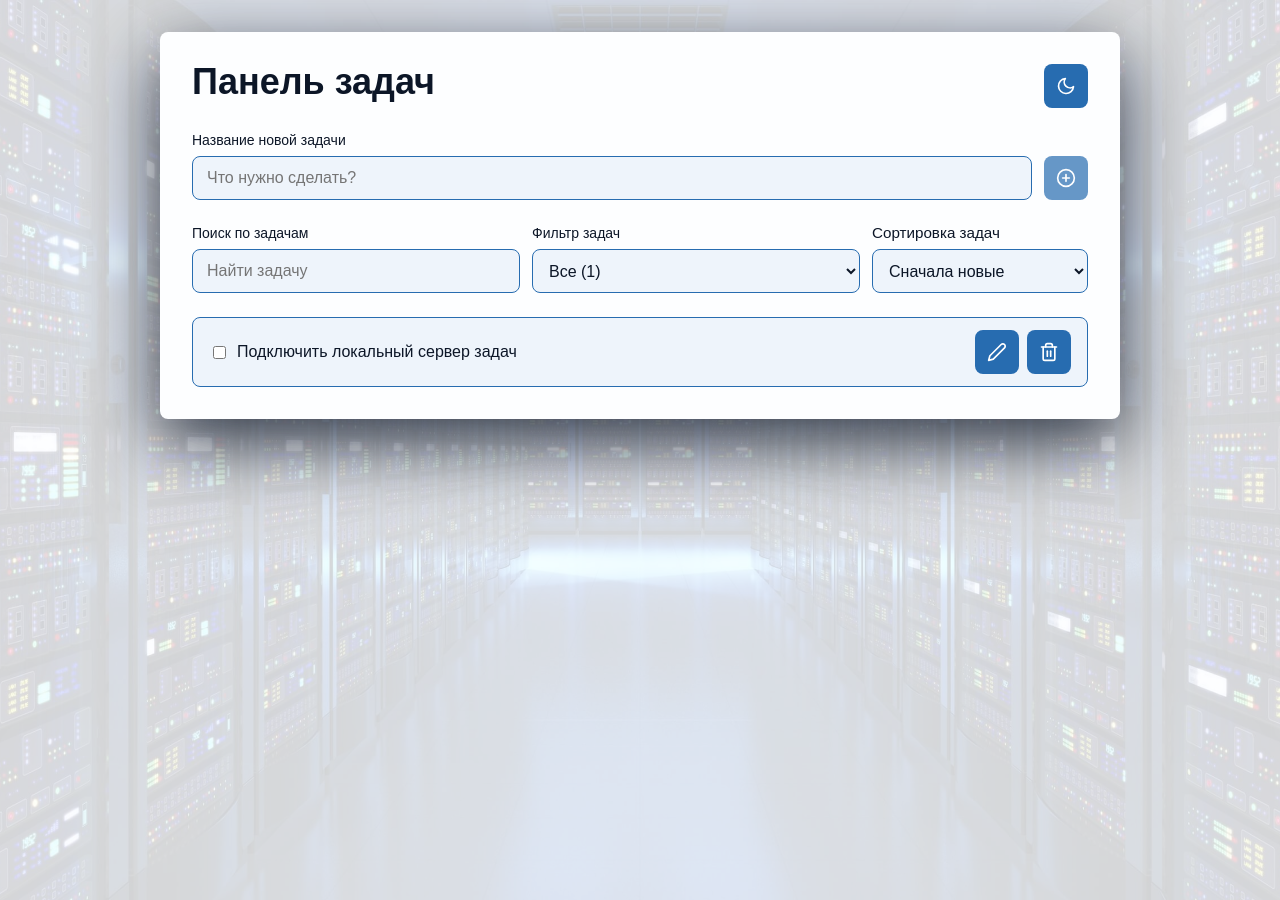
Test: App › отменяет редактирование по Escape и показывает старое название
Expected: the text "Подключить локальный сервер задач" is shown, [237,343,517,361]
Click the button named "Редактировать". click: [997, 352]
box: [975,330,1019,374]
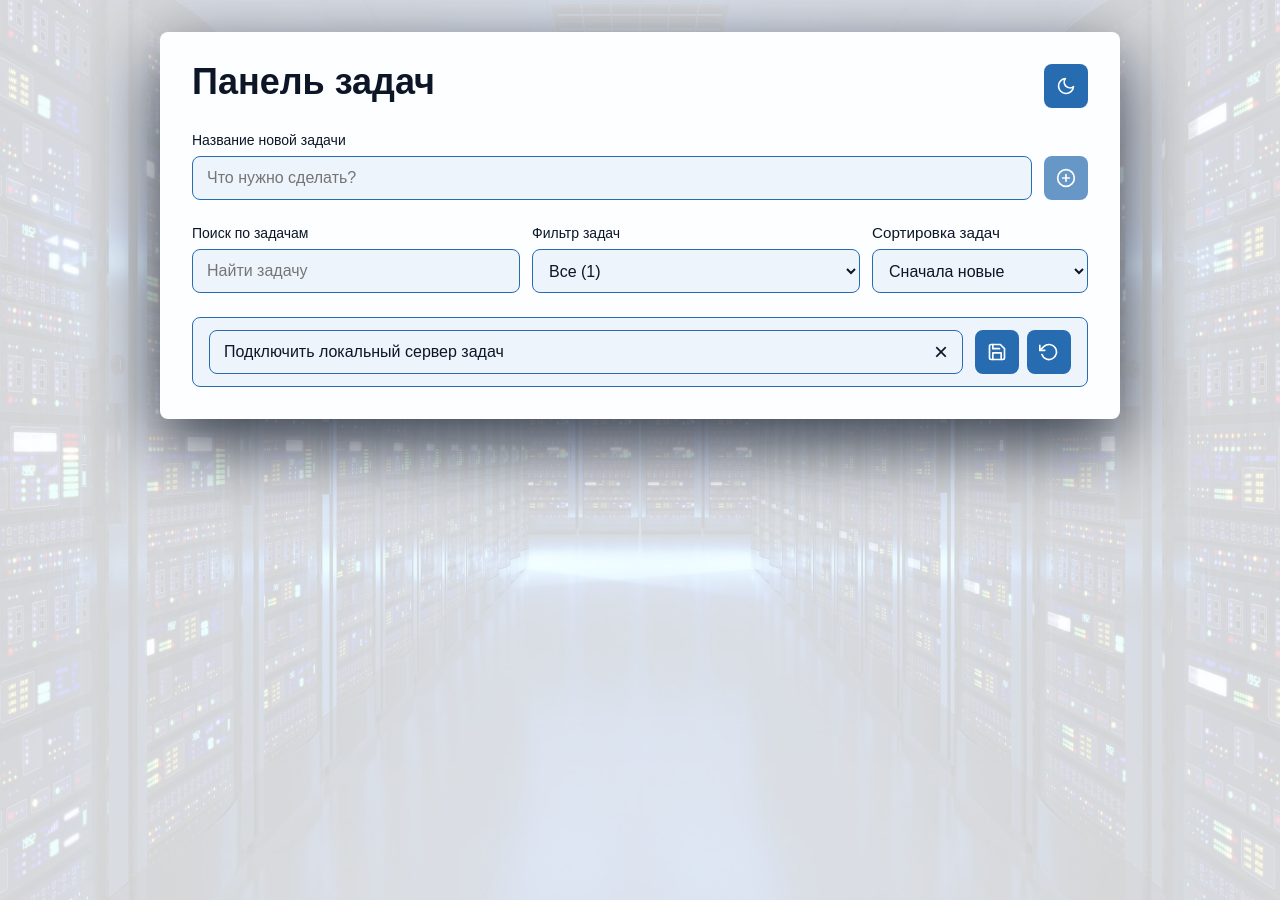
Replace the text in the field named "Название задачи" with "Черновик". click: [586, 352]
box: [209,330,963,374]
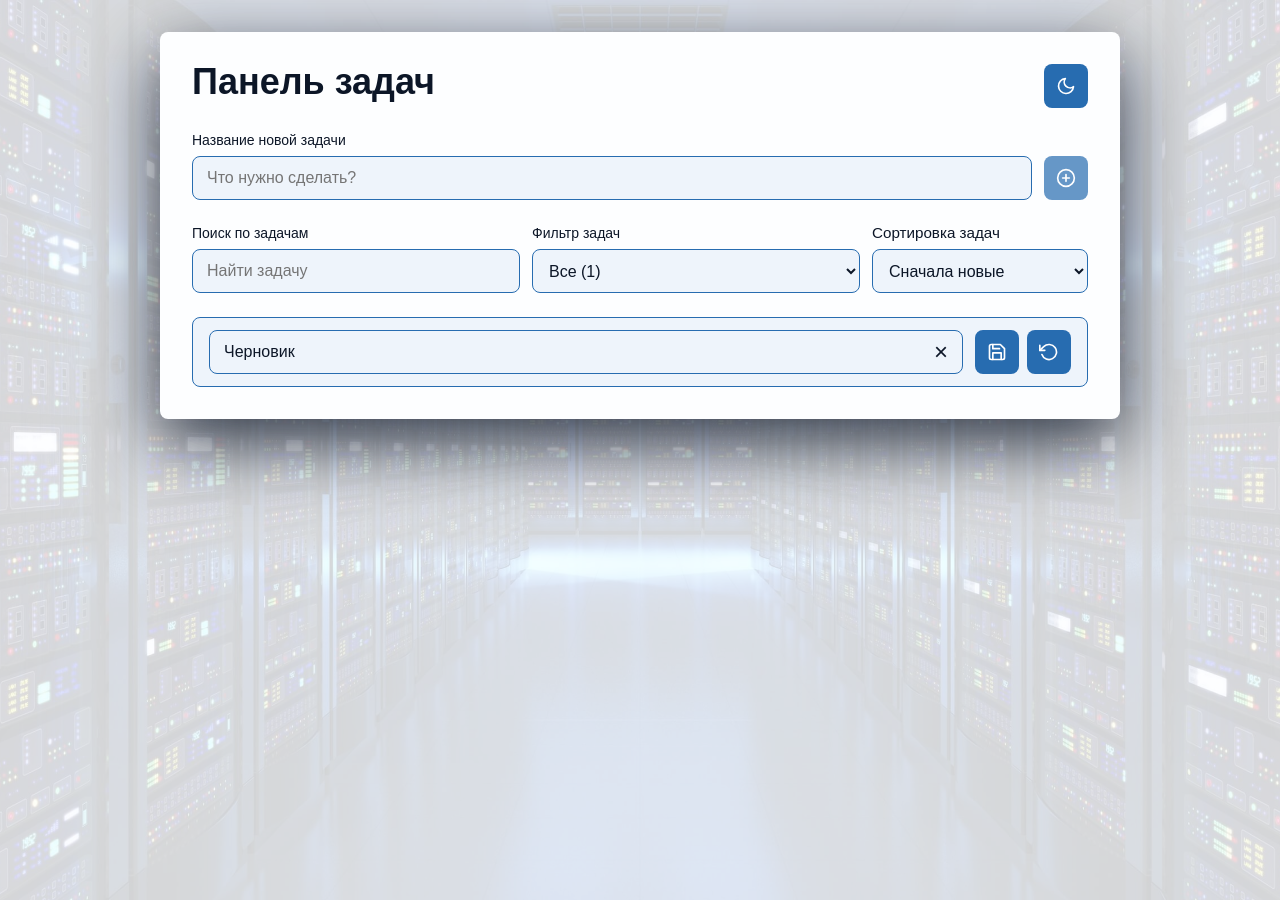
Press Escape
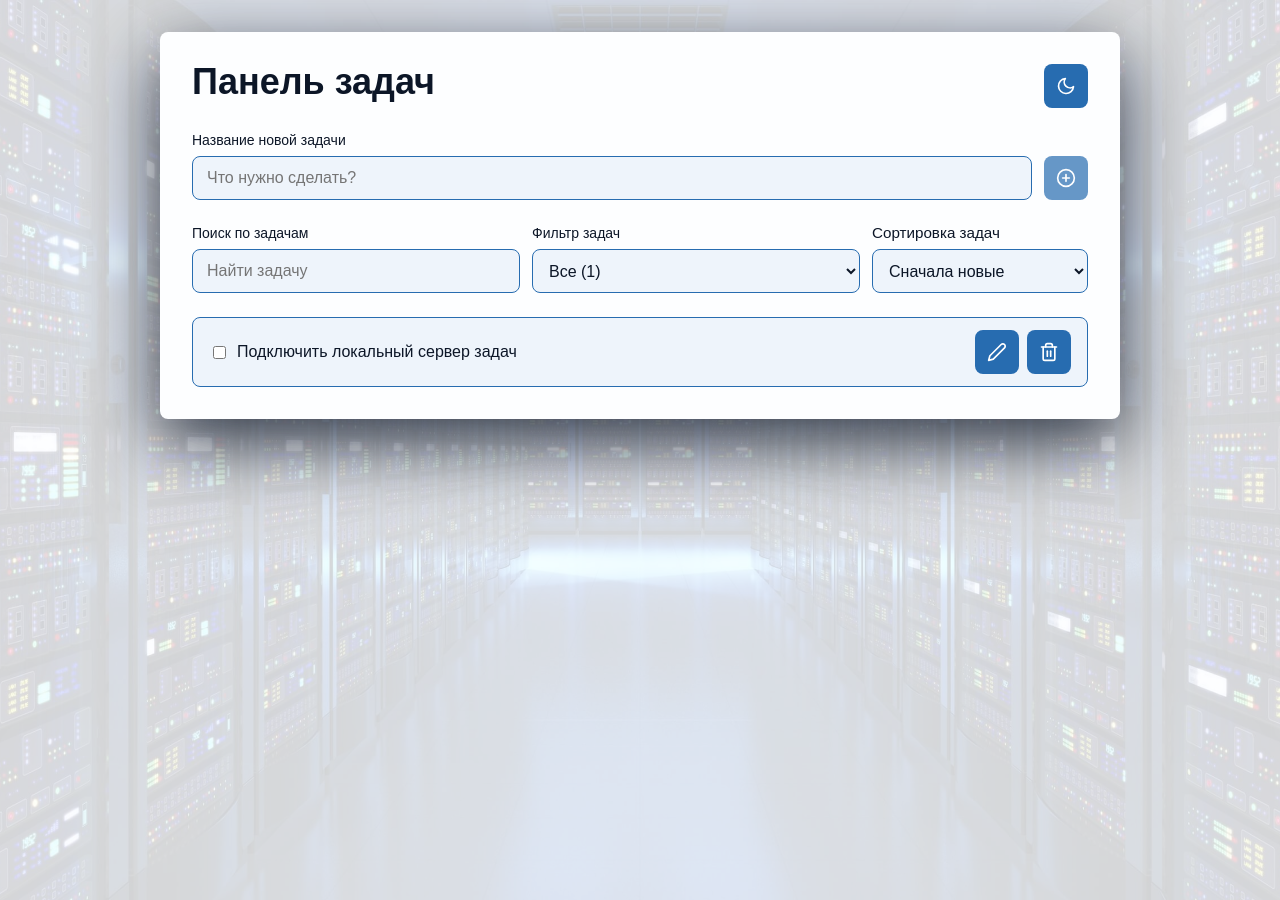
Expected: the field showing "Черновик" is not shown
Expected: the text "Подключить локальный сервер задач" is shown, [237,343,517,361]
